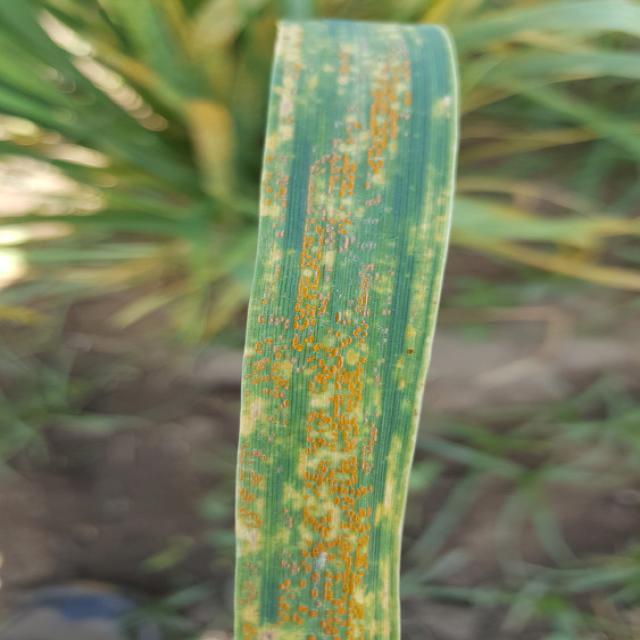wheat-yellowrust: (231, 19, 462, 640)
